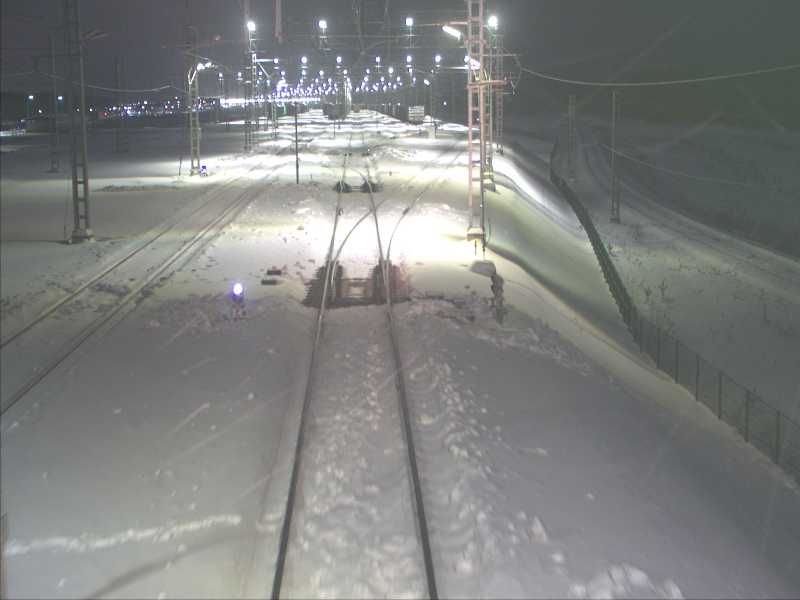left: (321, 205, 390, 303), (338, 163, 375, 194)
